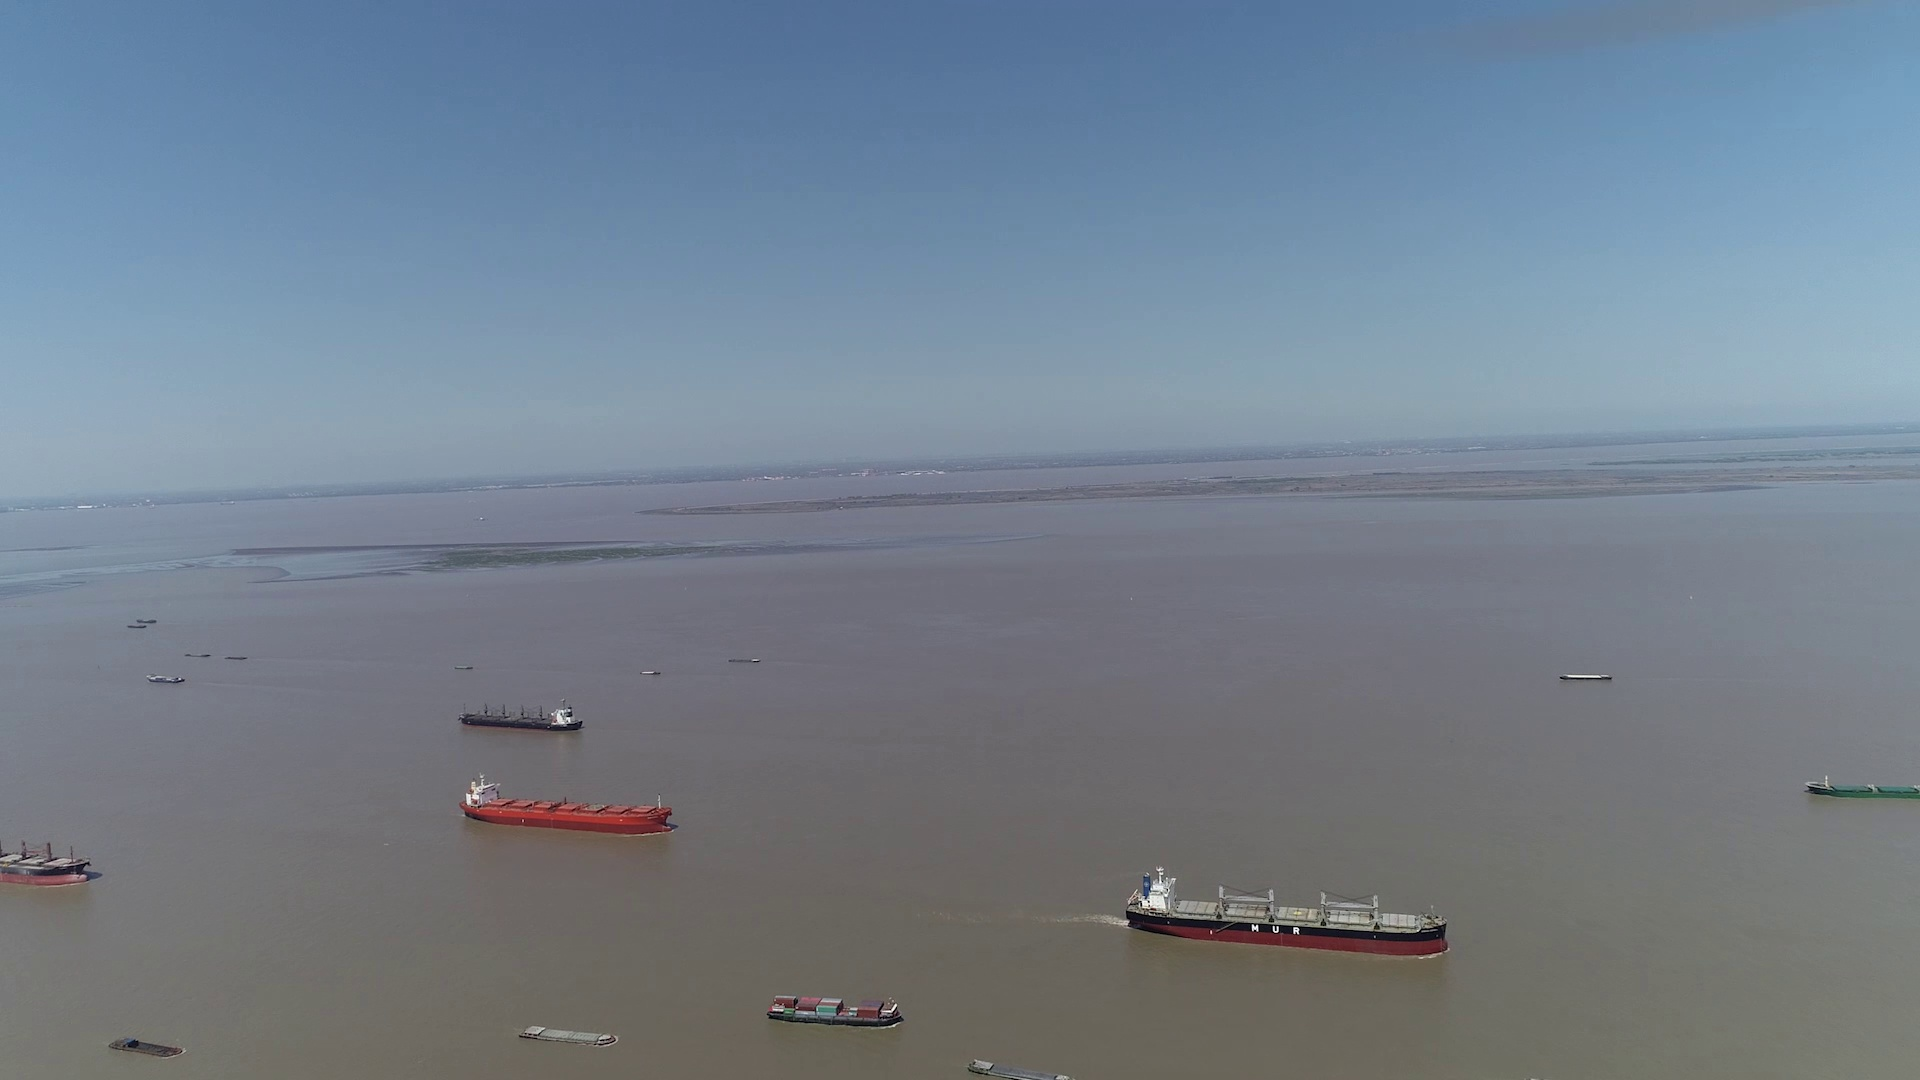ship: (1126, 866, 1449, 956), (459, 771, 673, 835), (1, 833, 94, 887), (765, 993, 905, 1029), (459, 700, 584, 732), (1804, 775, 1919, 800), (516, 1022, 618, 1046), (969, 1059, 1073, 1080), (109, 1036, 185, 1056), (1563, 673, 1611, 682), (149, 673, 186, 684)
